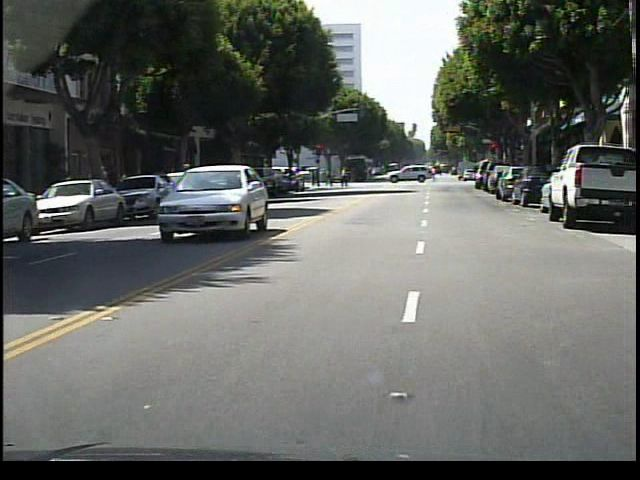person: (336, 163, 356, 192)
